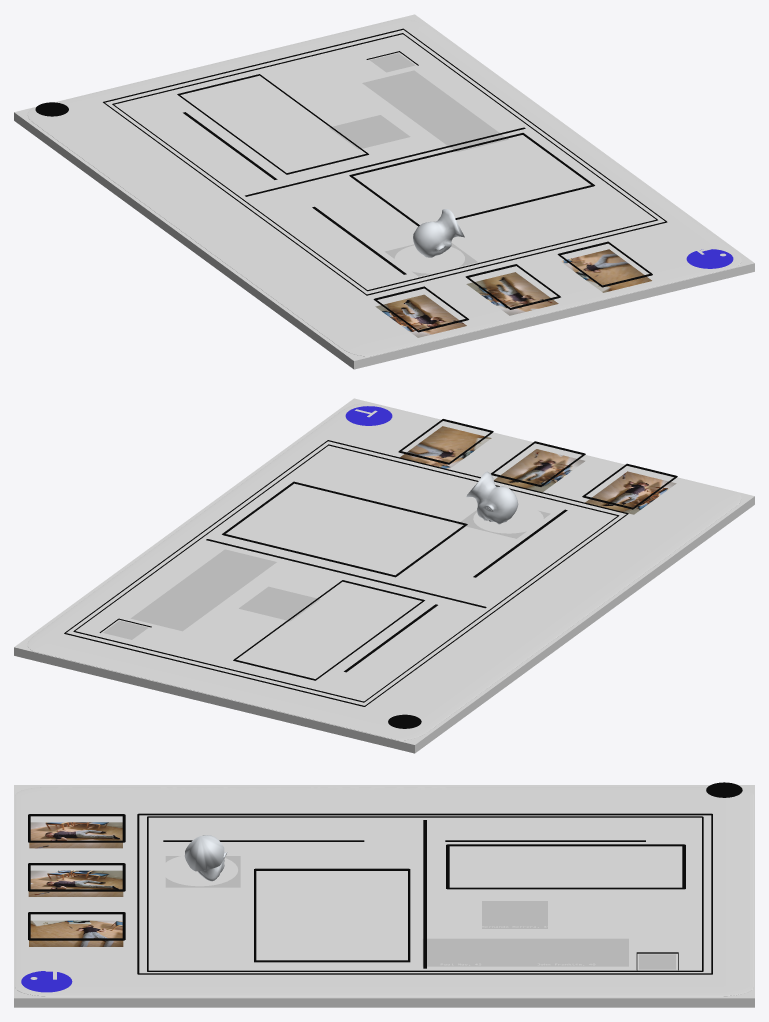
File: boardUI_unity.fbx
3 renders of one model, top to bottom at view 1: azimuth 30°, elevation 25°; view 2: azimuth 150°, elevation 25°; view 3: azimuth 270°, elevation 25°, orthographic. The views are drawn at different scales.
Visible parts, largest first — view 1: ui_backplate_solid, ui_backplate, suspect3_pic, Plane.001, suspect2_pic, Plane.003, suspect2_pic.002, suspect2_pic.001, suspect2_pic.003, suspect1_pic, side_panels, Markus (+8 smaller); view 2: ui_backplate_solid, ui_backplate, suspect3_pic, suspect2_pic, Plane.001, Plane.003, suspect2_pic.002, suspect2_pic.001, suspect2_pic.003, Markus, suspect1_pic, side_panels (+8 smaller); view 3: ui_backplate_solid, ui_backplate, Plane.001, suspect3_pic, Plane.003, suspect2_pic, suspect2_pic.002, suspect2_pic.001, suspect2_pic.003, side_panels, suspect1_pic, border.001 (+15 smaller).
Boxes of the visible parts, box(x1,y1,x2,y2) form: ui_backplate_solid: box(27, 19, 741, 356); ui_backplate: box(14, 14, 754, 369); suspect3_pic: box(362, 70, 467, 121); Plane.001: box(103, 28, 667, 295); suspect2_pic: box(415, 106, 508, 152); Plane.003: box(112, 33, 657, 291); suspect2_pic.002: box(466, 272, 558, 315); suspect2_pic.001: box(560, 249, 651, 292); suspect2_pic.003: box(375, 294, 466, 337); suspect1_pic: box(328, 115, 410, 149); side_panels: box(373, 241, 652, 332); Markus: box(413, 209, 464, 257); ui_backplate_solid: box(27, 403, 741, 740); ui_backplate: box(14, 398, 754, 753); suspect3_pic: box(130, 584, 229, 631); suspect2_pic: box(178, 549, 276, 596); Plane.001: box(64, 440, 628, 706); Plane.003: box(73, 444, 619, 702); suspect2_pic.002: box(494, 449, 584, 492); suspect2_pic.001: box(400, 426, 491, 469); suspect2_pic.003: box(585, 471, 676, 514); Markus: box(466, 471, 518, 524); suspect1_pic: box(239, 586, 320, 621); side_panels: box(398, 419, 677, 509); ui_backplate_solid: box(15, 787, 753, 996); ui_backplate: box(14, 785, 754, 1007); Plane.001: box(137, 813, 712, 974); suspect3_pic: box(512, 938, 628, 966); Plane.003: box(147, 816, 703, 971); suspect2_pic: box(422, 938, 525, 966); suspect2_pic.002: box(28, 870, 123, 896); suspect2_pic.001: box(29, 920, 123, 946); suspect2_pic.003: box(29, 822, 122, 848); side_panels: box(28, 814, 125, 940); suspect1_pic: box(482, 901, 547, 928); border.001: box(446, 844, 685, 889).
Bounding box in the file's own units: 587 × 71.63 × 863.
